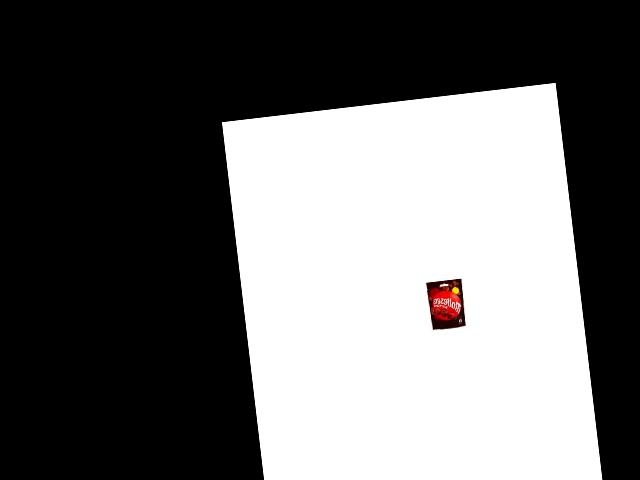chocolate: (425, 277, 467, 331)
